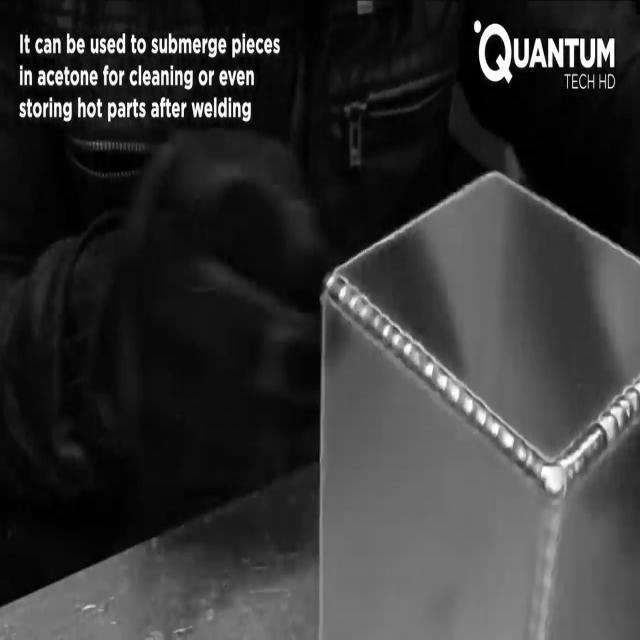Good Weld: (326, 271, 544, 468), (555, 391, 633, 495)
